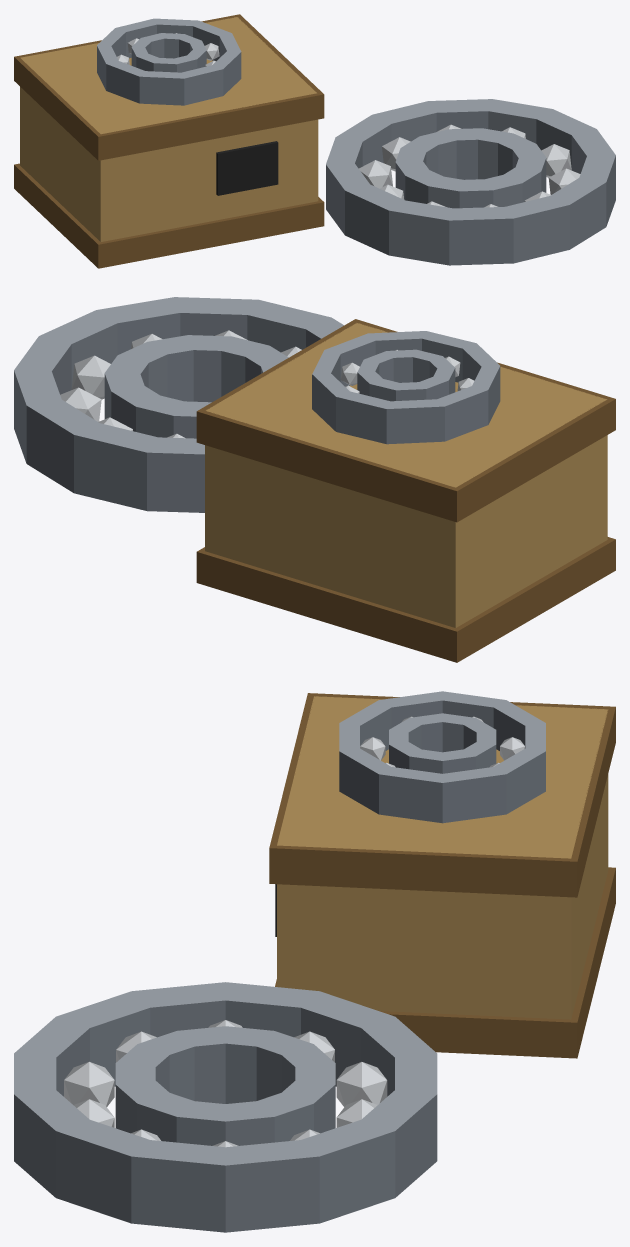
File: roulement.glb
3 views of the same model, one above another, from view 1: azimuth 30°, elevation 25°; view 2: azimuth 150°, elevation 25°; view 3: azimuth 270°, elevation 25° (orthographic). The views are drawn at different scales.
Visible parts, largest first — view 1: roulement; view 2: roulement; view 3: roulement.
Part boxes in pixels (box(x1,y1,x2,y2)): roulement: box(14, 14, 615, 268); roulement: box(14, 297, 615, 662); roulement: box(14, 691, 615, 1232).
Bounding box in the file's own units: 0.8224 × 0.265 × 0.6102.
